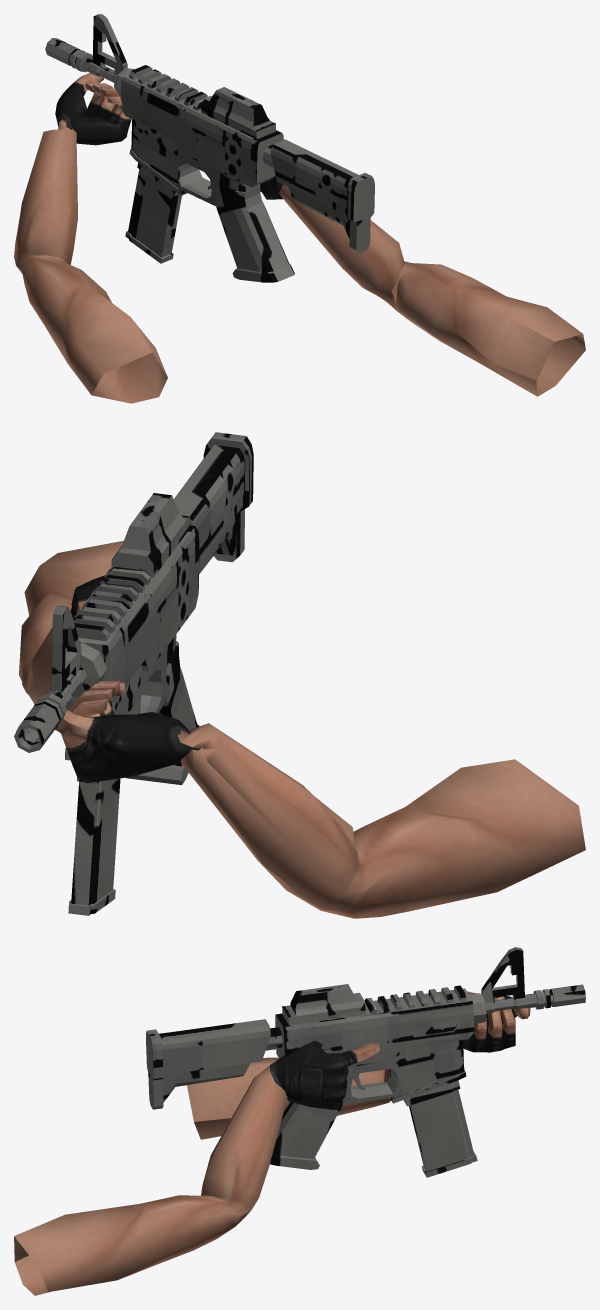
The model's file is gun_m4.glb.
The picture shows the model from 3 angles, top to bottom: view 1: azimuth 30°, elevation 25°; view 2: azimuth 150°, elevation 25°; view 3: azimuth 270°, elevation 25°; orthographic projection. The views are drawn at different scales.
Visible parts, largest first — view 1: body_ARMS, body_QUATP, mag_QUATP; view 2: body_ARMS, body_QUATP, mag_QUATP; view 3: body_ARMS, body_QUATP, mag_QUATP.
Boxes of the visible parts, x1=… form: body_ARMS: x1=14, y1=73, x2=585, y2=403; body_QUATP: x1=45, y1=14, x2=374, y2=282; mag_QUATP: x1=125, y1=162, x2=181, y2=263; body_ARMS: x1=19, y1=540, x2=585, y2=918; body_QUATP: x1=14, y1=432, x2=253, y2=785; mag_QUATP: x1=68, y1=777, x2=120, y2=915; body_ARMS: x1=14, y1=991, x2=530, y2=1295; body_QUATP: x1=146, y1=947, x2=585, y2=1169; mag_QUATP: x1=403, y1=1080, x2=477, y2=1177.
Size of the model in its own units: 78.02 by 44.06 by 93.32.
2 materials, 2 textured.
